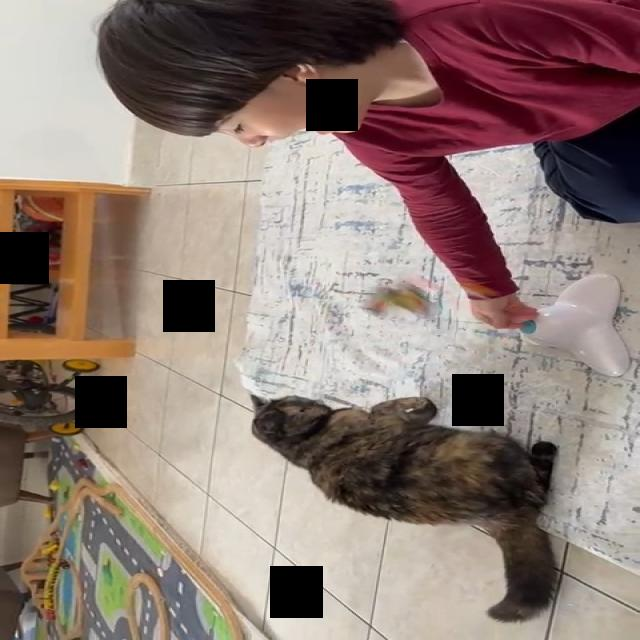authorized: (248, 392, 560, 622)
